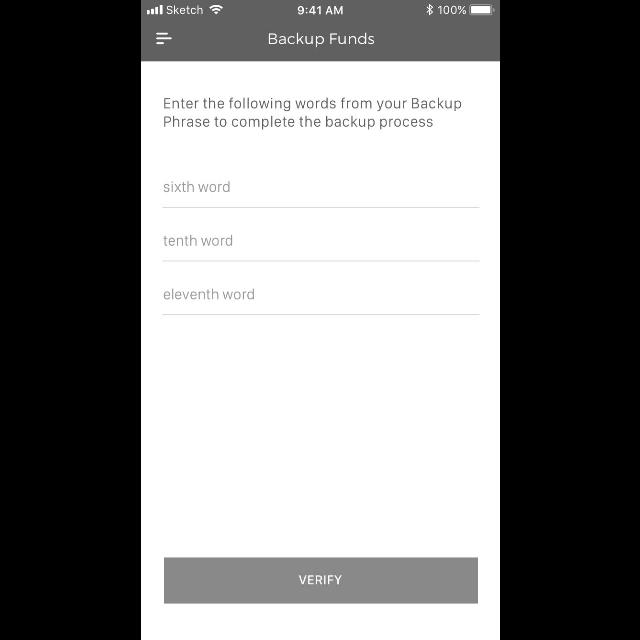icon: (155, 32, 171, 46)
input: (162, 288, 480, 316), (162, 235, 480, 262), (162, 182, 480, 208)
text: (163, 98, 461, 130), (268, 32, 374, 48), (163, 288, 253, 300), (162, 236, 232, 247), (163, 182, 229, 192)
textbutton: (164, 558, 478, 604)
uppertaskbar: (140, 1, 500, 17)
